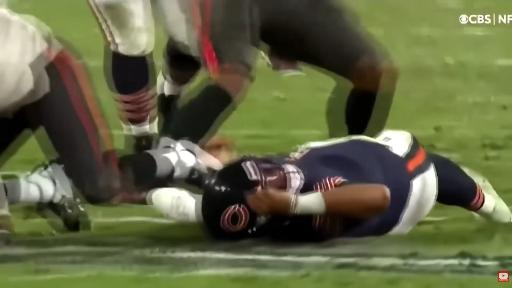Helmet: (202, 157, 289, 239)
Jersey: (276, 131, 437, 240)
Player: (148, 131, 511, 240), (165, 0, 397, 142), (0, 8, 116, 203), (88, 0, 197, 151), (88, 0, 157, 151), (0, 162, 90, 231), (157, 38, 201, 135)
